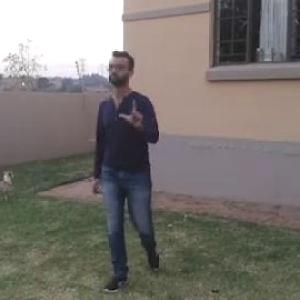land_hand: (118, 92, 151, 132)
